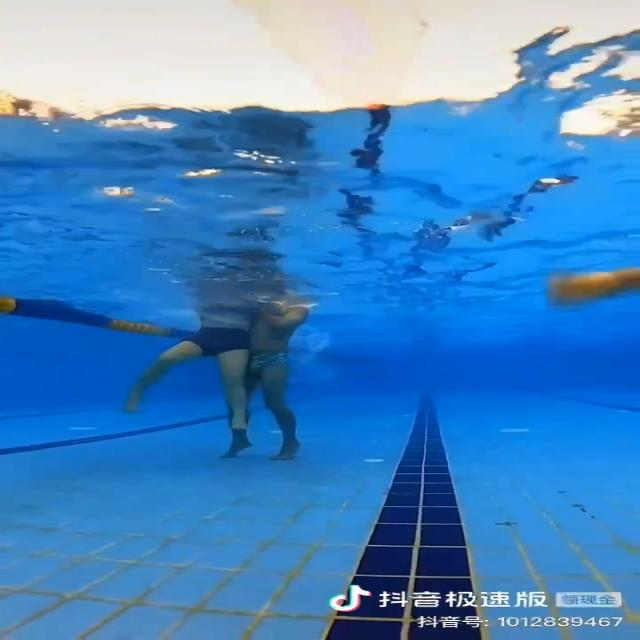Drowning: (117, 293, 259, 429)
Swimming: (212, 296, 310, 460)
